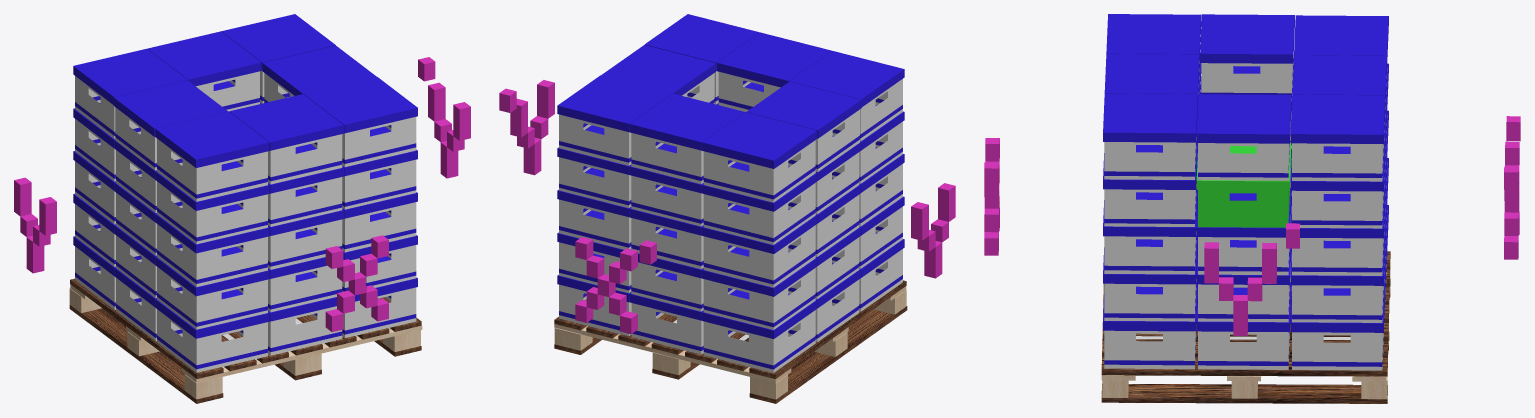
Rendered from caja324.gltf.
3 renders of one model, left to right at view 1: azimuth 30°, elevation 25°; view 2: azimuth 150°, elevation 25°; view 3: azimuth 270°, elevation 25°, orthographic. The views are drawn at different scales.
Visible parts, largest first — view 1: Cube.031_1, Cube.033_1, Cube.026_1, Cube.032_1, Cube.027_1, Cube.029_1, Cube.035_1, Cube.004_0, Cube.020_0, Cube.031_0, Cube.012_0, Cube.039_0 (+54 smaller); view 2: Cube.029_1, Cube.028_1, Cube.032_1, Cube.033_1, Cube.027_1, Cube.031_1, Cube.035_1, Cube.007_0, Cube.022_0, Cube.029_0, Cube.014_0, Cube.037_0 (+54 smaller); view 3: Cube.035_1, Cube.026_1, Cube.028_1, Cube.027_1, CajaVerde, Cube055, Cube.029_1, Cube.033_1, Cube.032_1, Cube.031_1, Cube.003_0, Cube.001_0 (+32 smaller).
Boxes of the visible parts, box(x1,y1,x2,y2) form: Cube.031_1: box(155, 111, 269, 198); Cube.033_1: box(229, 94, 343, 181); Cube.026_1: box(303, 77, 417, 163); Cube.032_1: box(147, 31, 261, 109); Cube.027_1: box(113, 80, 227, 167); Cube.029_1: box(73, 48, 187, 135); Cube.035_1: box(262, 46, 376, 102); Cube.004_0: box(157, 309, 267, 372); Cube.020_0: box(157, 224, 267, 287); Cube.031_0: box(157, 138, 267, 201); Cube.012_0: box(157, 267, 267, 329); Cube.039_0: box(157, 181, 267, 244); Cube.029_1: box(702, 112, 817, 199); Cube.028_1: box(557, 75, 672, 162); Cube.032_1: box(629, 93, 744, 180); Cube.033_1: box(717, 32, 831, 109); Cube.027_1: box(746, 81, 861, 168); Cube.031_1: box(789, 51, 904, 138); Cube.035_1: box(601, 45, 716, 103); Cube.007_0: box(703, 310, 815, 372); Cube.022_0: box(703, 225, 815, 287); Cube.029_0: box(703, 140, 815, 202); Cube.014_0: box(703, 268, 815, 329); Cube.037_0: box(703, 183, 815, 244); Cube.035_1: box(1196, 94, 1291, 177); Cube.026_1: box(1103, 93, 1197, 176); Cube.028_1: box(1290, 94, 1385, 177); Cube.027_1: box(1200, 14, 1294, 97); CajaVerde: box(1196, 142, 1291, 227); Cube055: box(1101, 384, 1387, 403); Cube.029_1: box(1294, 15, 1388, 98); Cube.033_1: box(1104, 53, 1199, 136); Cube.032_1: box(1292, 55, 1386, 136); Cube.031_1: box(1106, 14, 1201, 91); Cube.003_0: box(1292, 332, 1383, 370); Cube.001_0: box(1104, 330, 1196, 369).
Bounding box in the file's own units: 4.23 × 2.33 × 4.23.
Materials: 82 (2 with a texture image).
